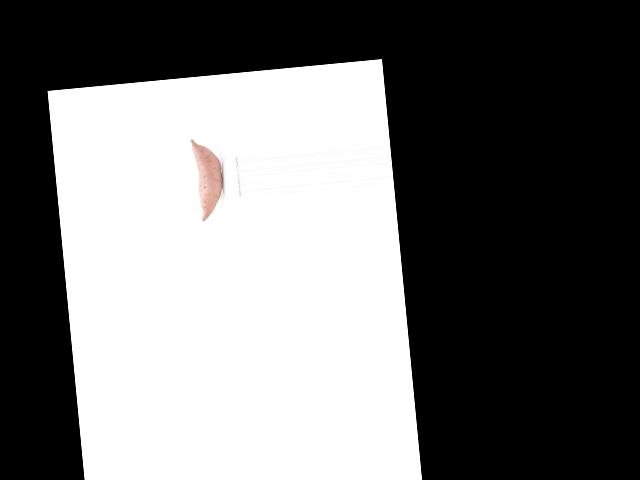sweet_potato: (186, 136, 227, 222)
